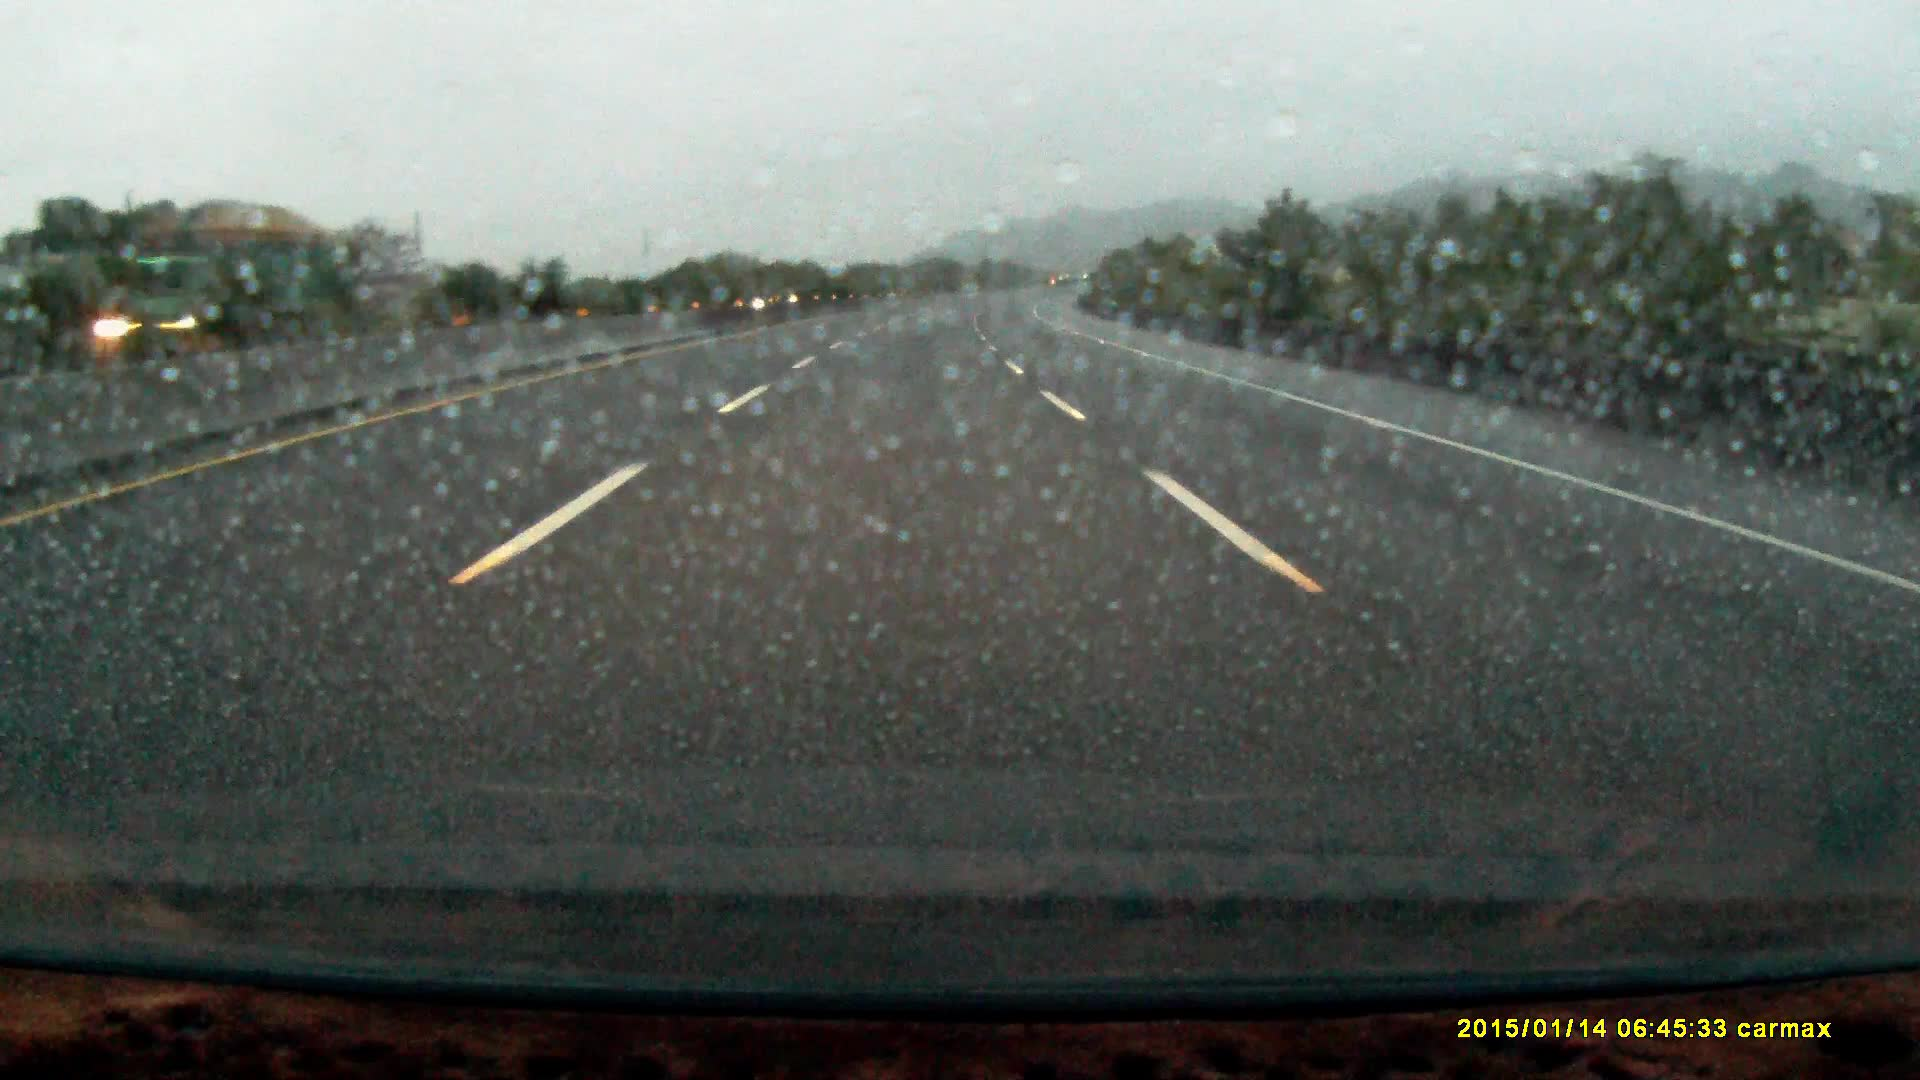vehicle: (91, 203, 343, 357)
